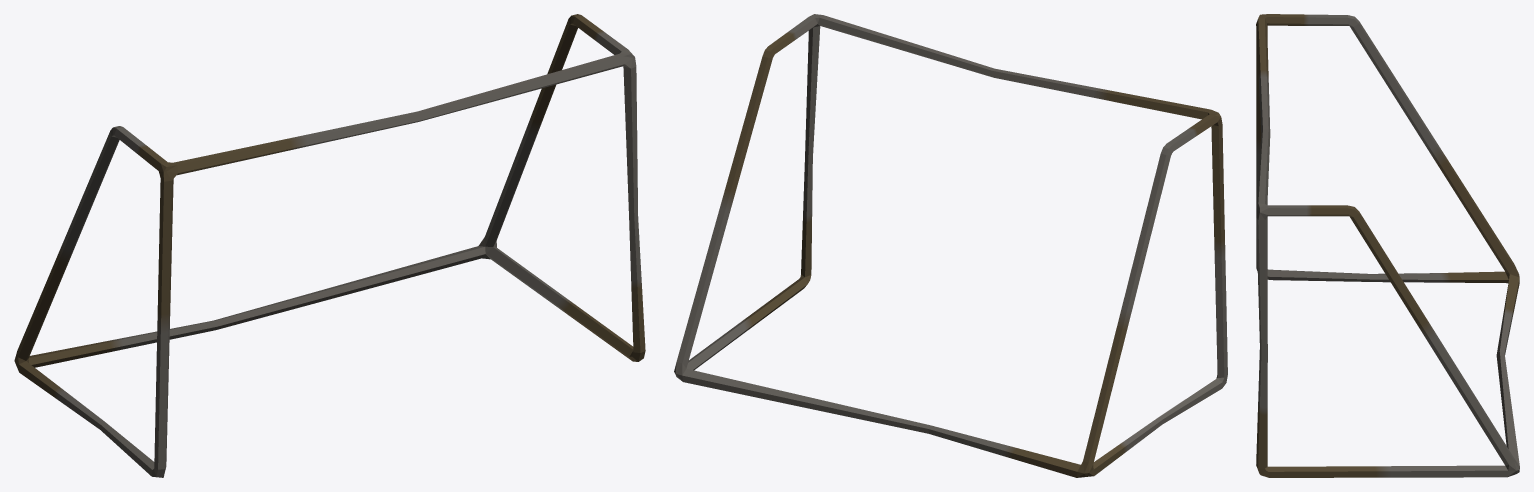
File: SM_Prop_GoalPosts_01.glb
3 renders of one model, left to right at view 1: azimuth 30°, elevation 25°; view 2: azimuth 150°, elevation 25°; view 3: azimuth 270°, elevation 25°, orthographic. The views are drawn at different scales.
Parts seen in each view (by area): view 1: SM_Prop_GoalPosts_01; view 2: SM_Prop_GoalPosts_01; view 3: SM_Prop_GoalPosts_01.
Part boxes in pixels (x1,y1,x2,y2): SM_Prop_GoalPosts_01: (14, 14, 645, 477); SM_Prop_GoalPosts_01: (674, 14, 1227, 477); SM_Prop_GoalPosts_01: (1256, 14, 1519, 477).
Size of the model in its own units: 3.72 by 2.29 by 2.05.
Materials: 1 (1 with a texture image).
